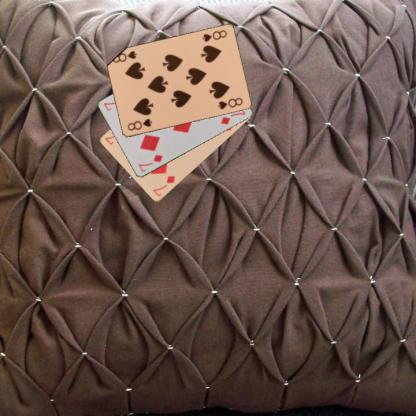7d: (150, 173, 176, 198), (136, 152, 163, 173)
8s: (199, 27, 228, 43), (125, 116, 153, 132)
